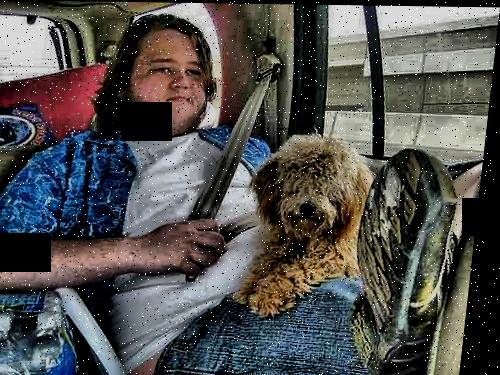seatbelt: (175, 61, 286, 276)
